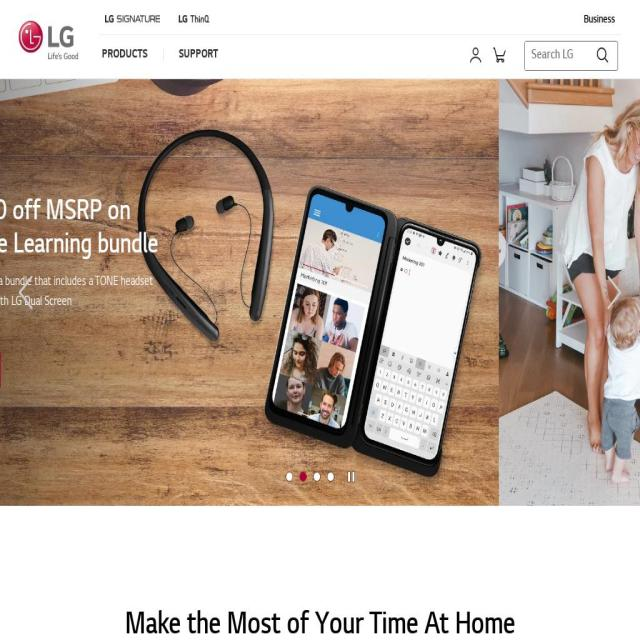button: (0, 0, 99, 78), (50, 352, 142, 389), (99, 0, 166, 30), (102, 35, 147, 77), (179, 35, 218, 77), (172, 0, 216, 30), (578, 0, 622, 30), (18, 276, 32, 309), (608, 276, 622, 309), (467, 43, 484, 67), (491, 43, 508, 67), (347, 471, 355, 482), (313, 472, 320, 481), (327, 472, 334, 481), (286, 472, 292, 481), (300, 472, 306, 481)
field: (525, 42, 594, 70), (594, 43, 611, 67)
heading: (70, 606, 570, 640), (50, 196, 303, 262)
image: (19, 0, 80, 78), (607, 276, 622, 309), (19, 276, 33, 309), (105, 15, 160, 23), (178, 15, 210, 23)
text: (50, 276, 294, 309), (102, 35, 147, 77), (179, 35, 218, 77), (50, 316, 96, 329), (18, 276, 33, 309), (608, 276, 622, 309)
